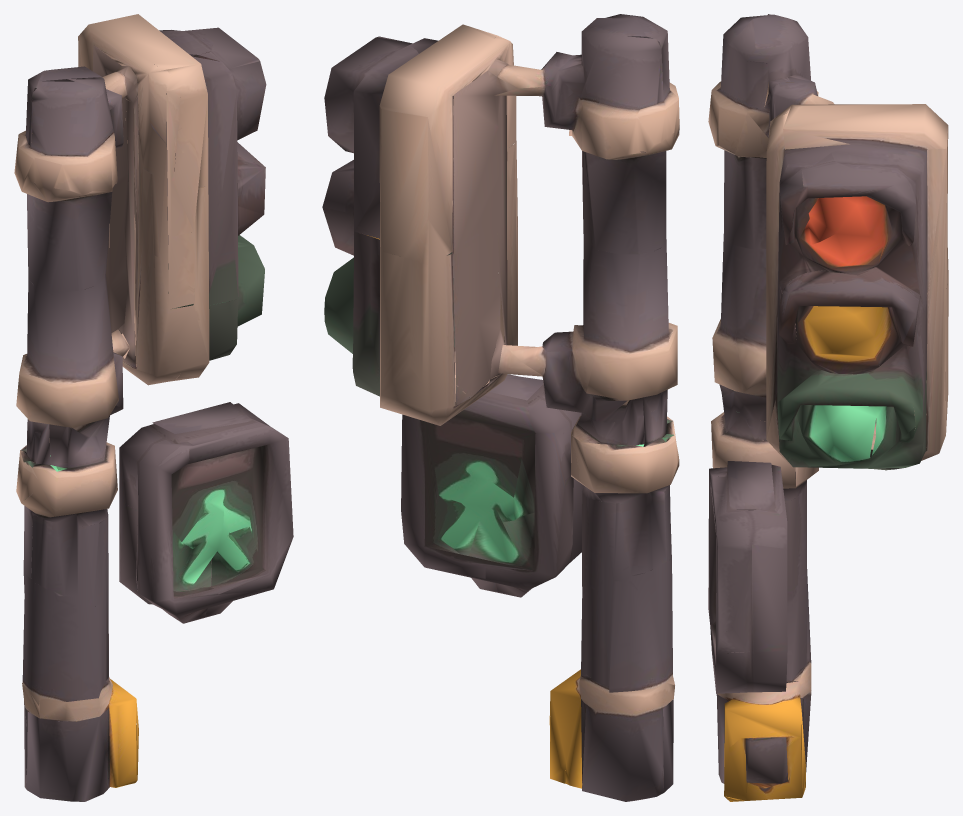
The model's file is M-10_03_trafficlight.glb.
3 views of the same model, side by side, from view 1: azimuth 30°, elevation 25°; view 2: azimuth 150°, elevation 25°; view 3: azimuth 270°, elevation 25° (orthographic). The views are drawn at different scales.
Parts seen in each view (by area): view 1: trafficlight; view 2: trafficlight; view 3: trafficlight.
Boxes of the visible parts, bbox=[...] form: trafficlight: bbox=[14, 14, 293, 801]; trafficlight: bbox=[322, 14, 679, 801]; trafficlight: bbox=[708, 14, 948, 801].
Bounding box in the file's own units: 1.99 × 5.23 × 1.51.
1 material, 1 textured.
